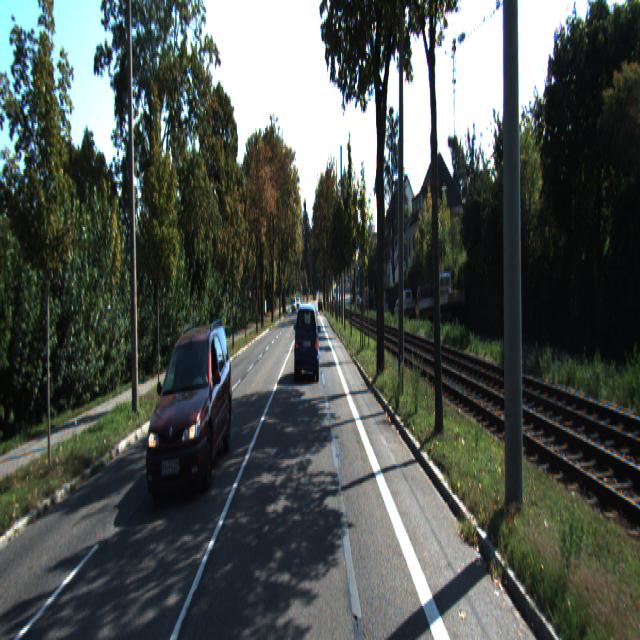Car: (145, 323, 234, 502), (294, 300, 320, 383), (433, 269, 465, 327), (415, 282, 437, 324)
